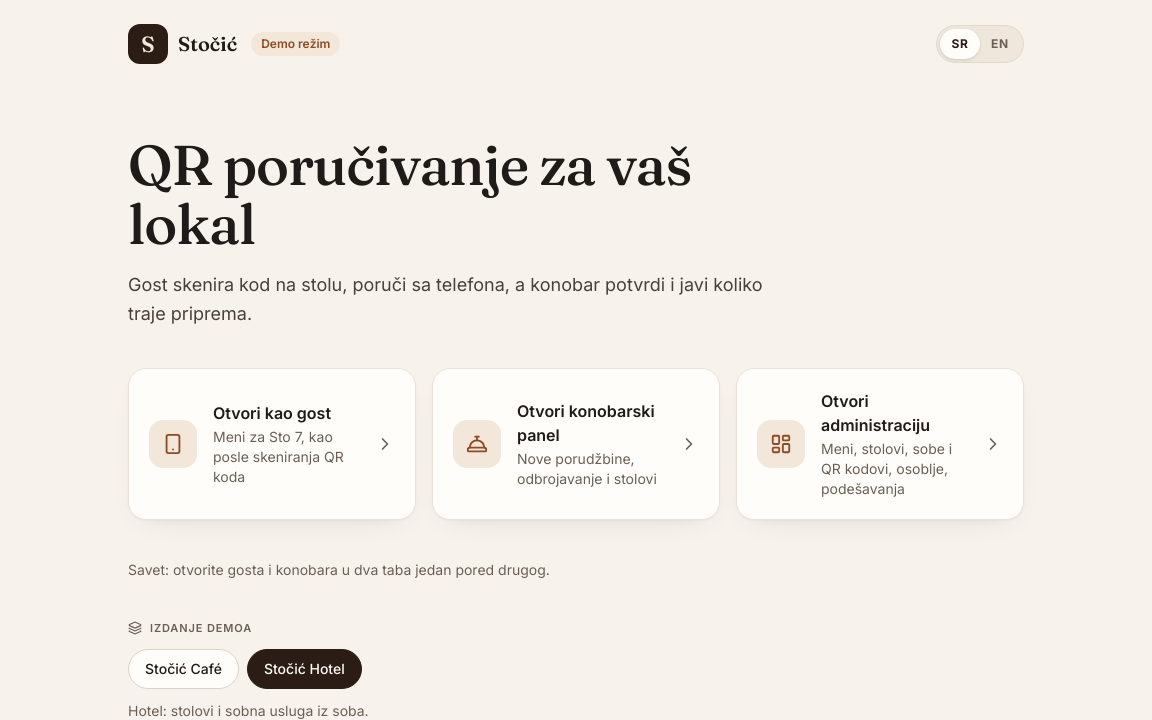
Test: staff › the demo edition is switched on the home page
The image size is (1152, 720).
What coordinates should you click on to do the following:
click the button "Stočić Café"
I would click on:
 (183, 669)
Its box is x1=128 y1=649 x2=239 y2=689.
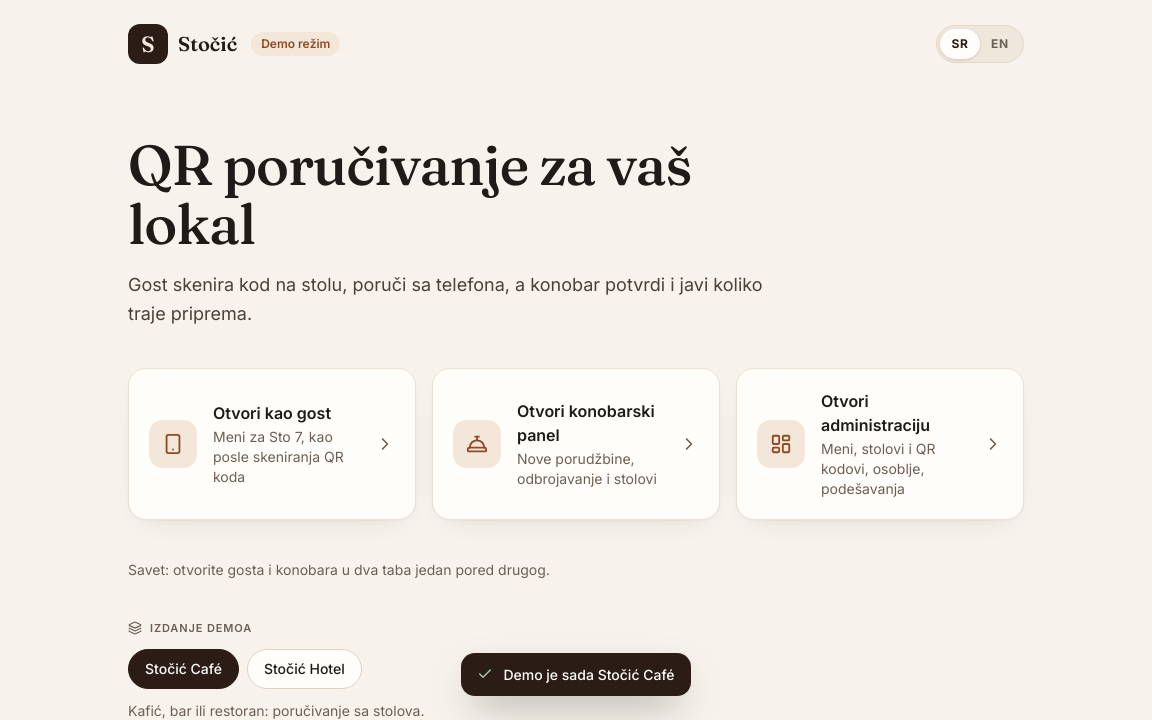
Result: the text "Demo je sada Stočić Café" is shown at x1=461 y1=653 x2=691 y2=696
